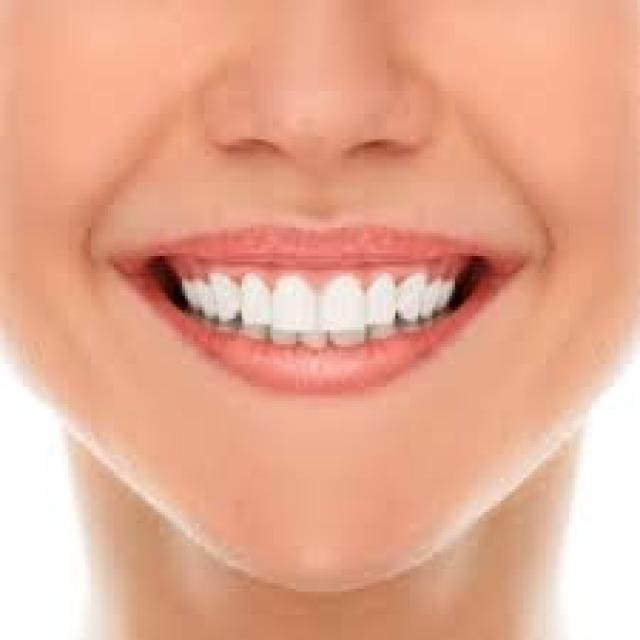tooth: (322, 273, 364, 333), (270, 279, 316, 330), (236, 273, 267, 321), (367, 276, 395, 324), (398, 276, 421, 321), (213, 273, 236, 316), (190, 276, 213, 318), (236, 322, 267, 344), (429, 273, 444, 310), (330, 333, 367, 347), (174, 279, 188, 313), (370, 327, 404, 339), (210, 319, 230, 330), (447, 279, 458, 296), (298, 333, 318, 341)
